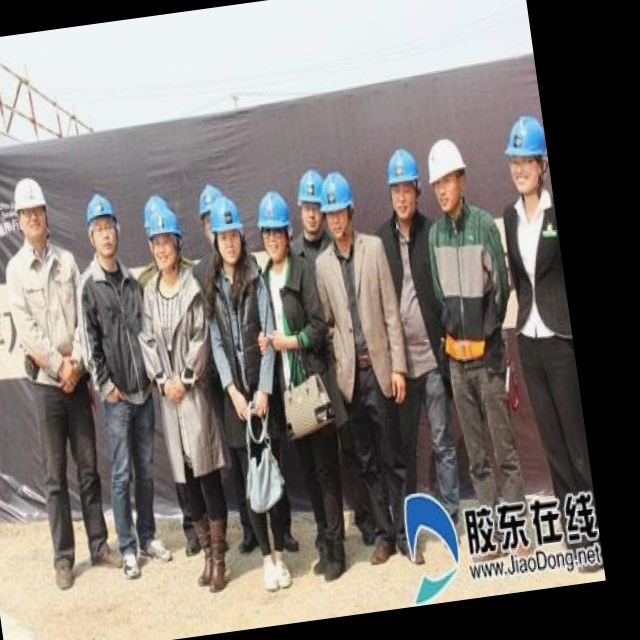Con_Casco: (423, 139, 470, 216), (13, 179, 51, 242)
Sin_Chaleco: (314, 236, 409, 404)
